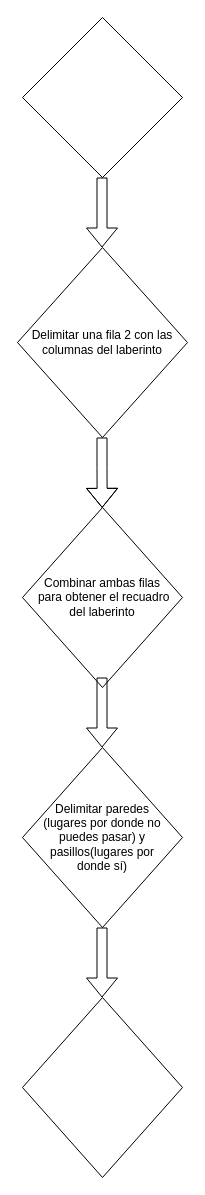
The diagram is 205 pixels wide and 1195 high, and some of its shapes have lost their labels. The shapes that lost their labels are listed below. From the top down, each one's centre as x and y in pixels, then its label:
(102,97): Delimitar una lista 1 con las filas del laberinto
(102,1087): Delimitar casilla de inicio y del final
